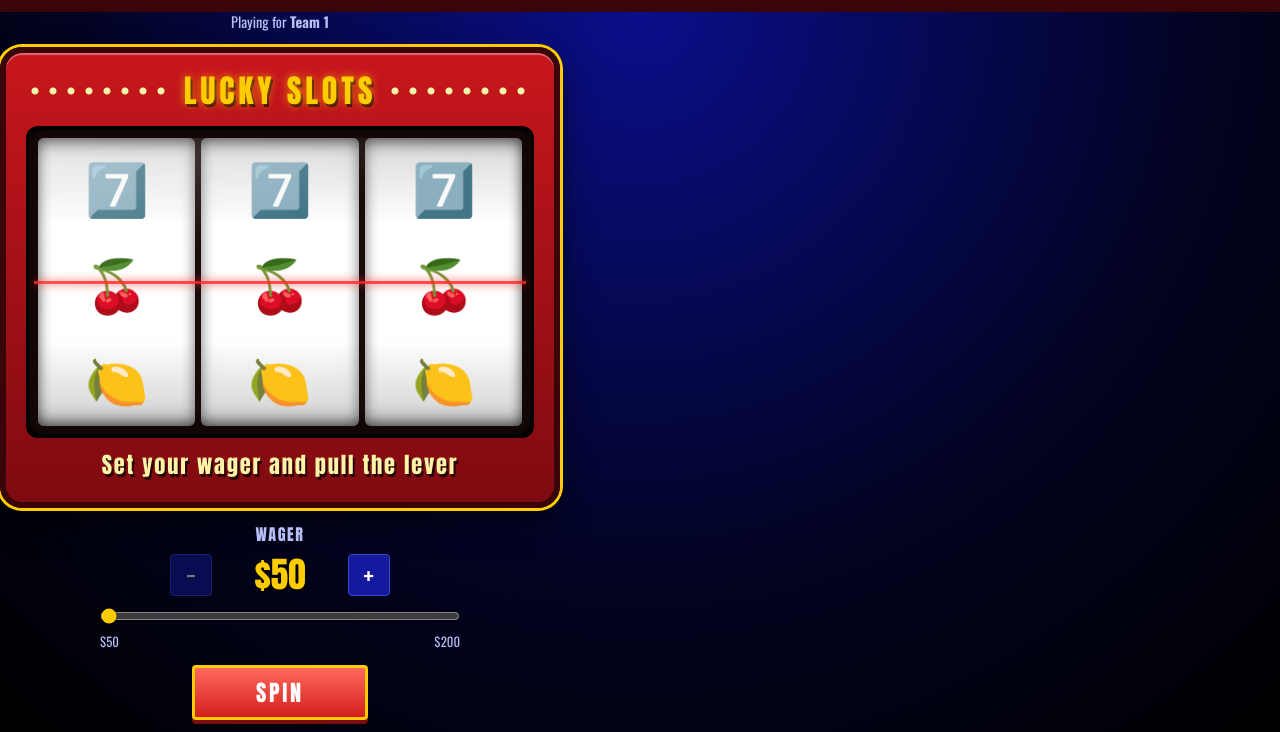
SlotsGame › pays the multiplier for three of a kind once the reels stop
Click the button "Spin" at (280, 693), box [192,665,368,720]
Wait 6000 ms
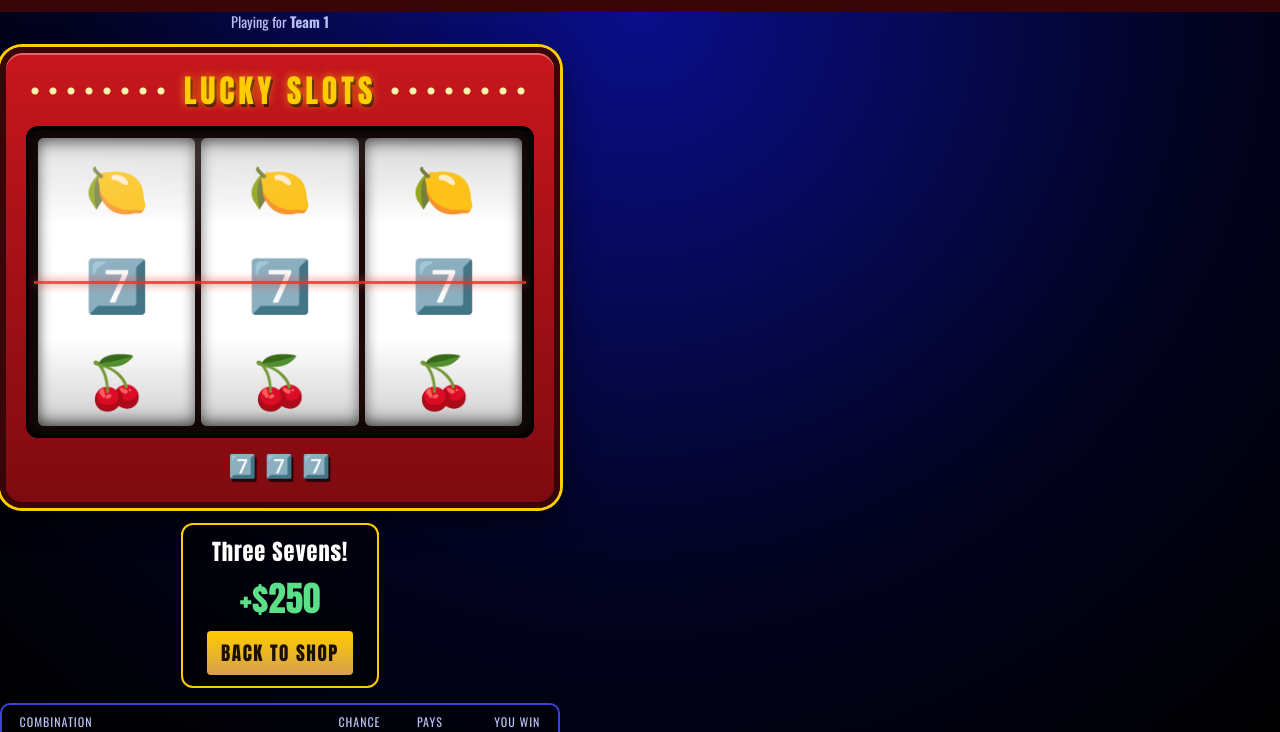
Check: the text "Three Sevens!" is shown, box [212,536,348,567]
